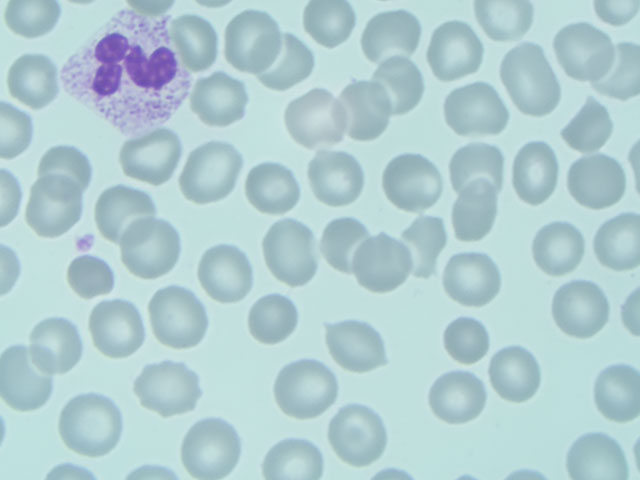Platelets: (73, 226, 100, 257)
RBC: (118, 126, 182, 188), (179, 141, 243, 203), (242, 156, 306, 218), (304, 145, 368, 207), (280, 89, 344, 151), (260, 35, 324, 97), (217, 3, 281, 65), (194, 64, 258, 126), (177, 8, 241, 70), (2, 54, 66, 116), (35, 126, 99, 188), (19, 178, 83, 240), (26, 317, 90, 379), (49, 251, 113, 313), (123, 221, 187, 283), (90, 178, 154, 240), (61, 395, 125, 457), (1, 346, 65, 408), (134, 360, 198, 422), (83, 298, 147, 360), (140, 285, 204, 347), (196, 243, 260, 305), (238, 281, 302, 343), (259, 221, 323, 283), (311, 216, 375, 278), (357, 232, 421, 294), (384, 221, 448, 283), (384, 150, 448, 212), (439, 183, 503, 245), (451, 135, 515, 197), (444, 79, 508, 141), (425, 19, 489, 81), (357, 6, 421, 68), (375, 52, 439, 114), (337, 83, 401, 145), (303, 1, 367, 63), (445, 248, 509, 310), (437, 312, 501, 374), (488, 345, 552, 407), (428, 367, 492, 429), (324, 313, 388, 375), (271, 358, 335, 420), (330, 404, 394, 466), (182, 418, 246, 480), (264, 418, 328, 480), (551, 281, 615, 343), (575, 357, 639, 419), (567, 418, 631, 480), (525, 218, 589, 280), (507, 144, 571, 206), (568, 151, 632, 213), (557, 93, 621, 155), (506, 47, 570, 109), (556, 20, 620, 82), (576, 213, 640, 275), (1, 1, 64, 62), (478, 1, 536, 44)
WBC: (66, 11, 192, 123)
